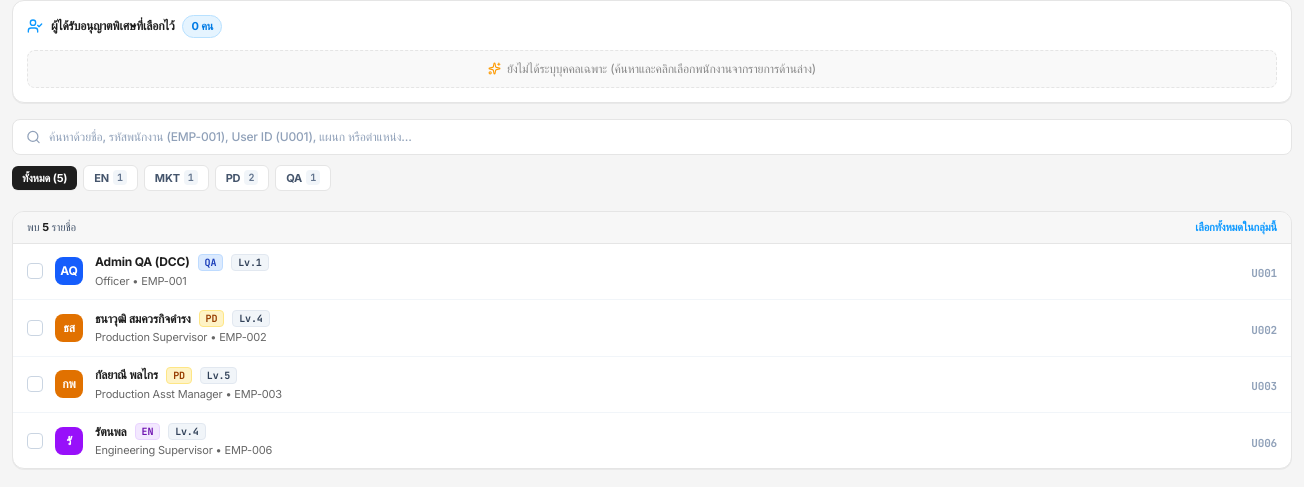
AuthorizedUsersSelector Component › filters users by department quick filter chips
// Click on PD chip
Click the button "PD 2": x=242, y=178 [215, 164, 269, 191]
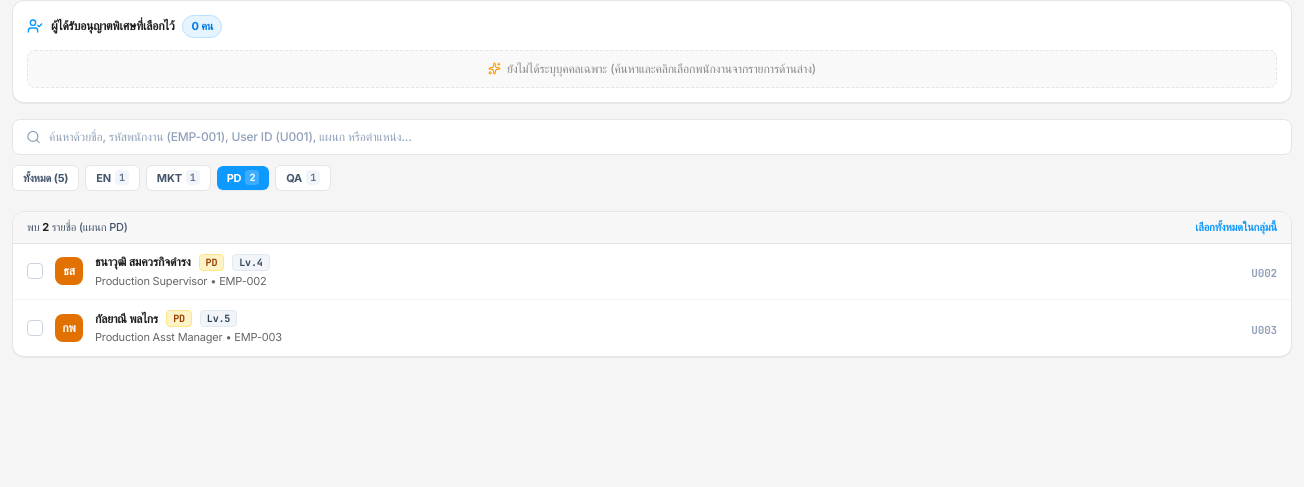
Expected: the text "ธนาวุฒิ สมควรกิจดำรง" is shown, [95, 254, 191, 270]
Now the text "รัตนพล" is gone
